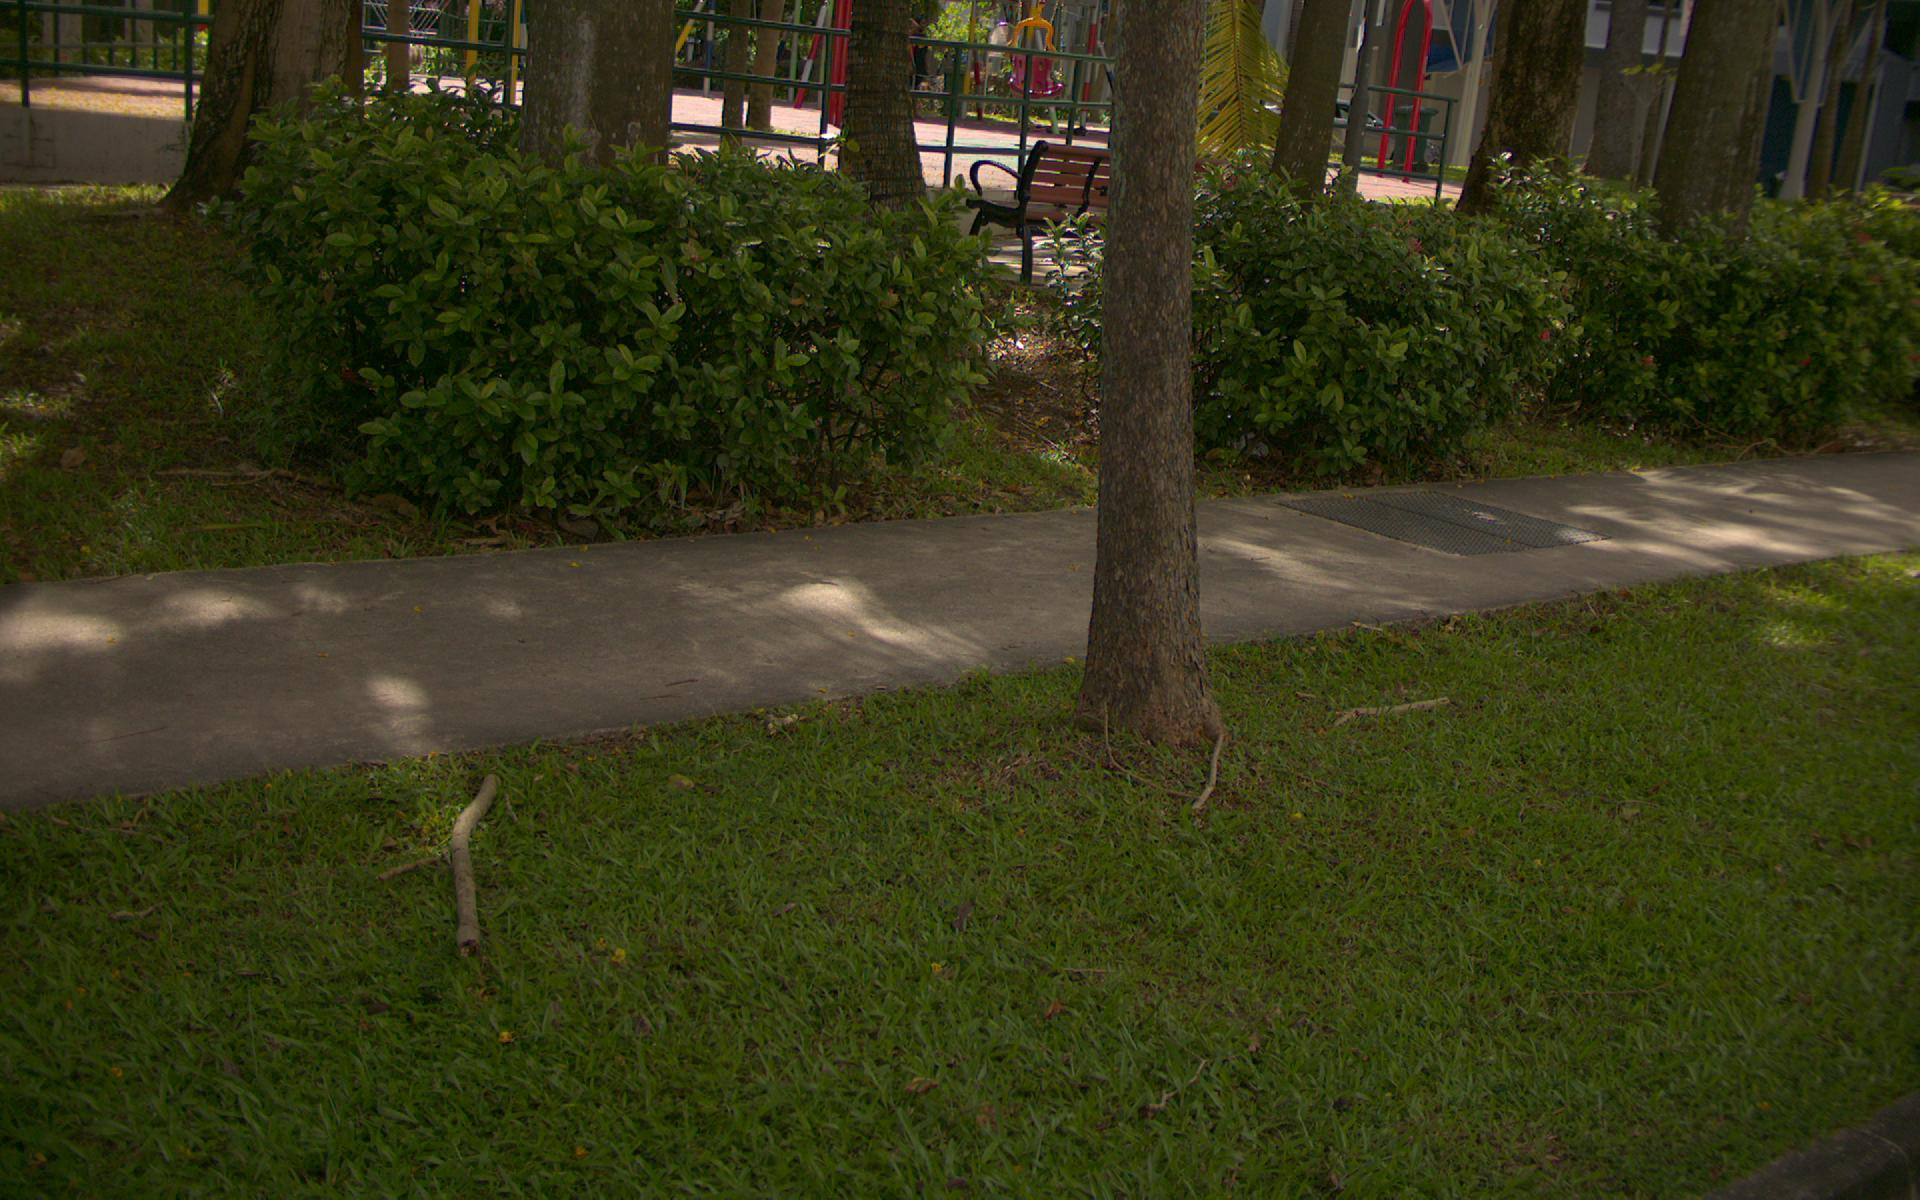road_turf_low: (23, 561, 1906, 1183)
